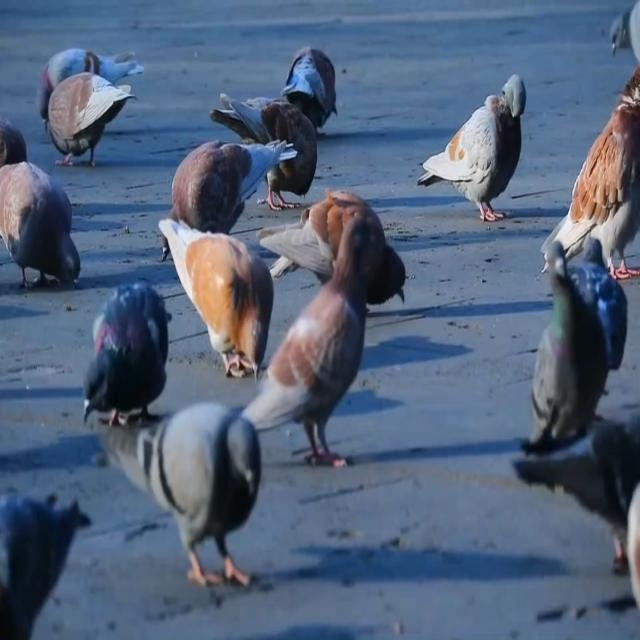bird: (251, 197, 379, 479), (105, 378, 271, 593), (152, 209, 280, 408), (524, 230, 606, 478), (254, 184, 412, 307), (512, 416, 640, 551), (75, 258, 173, 434), (213, 80, 331, 223), (413, 73, 527, 220), (563, 74, 640, 284), (4, 489, 104, 640), (164, 136, 310, 234), (34, 13, 150, 118), (556, 202, 632, 361), (0, 156, 76, 296), (49, 84, 147, 188), (285, 44, 355, 160), (0, 114, 39, 210), (618, 484, 639, 640), (609, 5, 640, 60)
